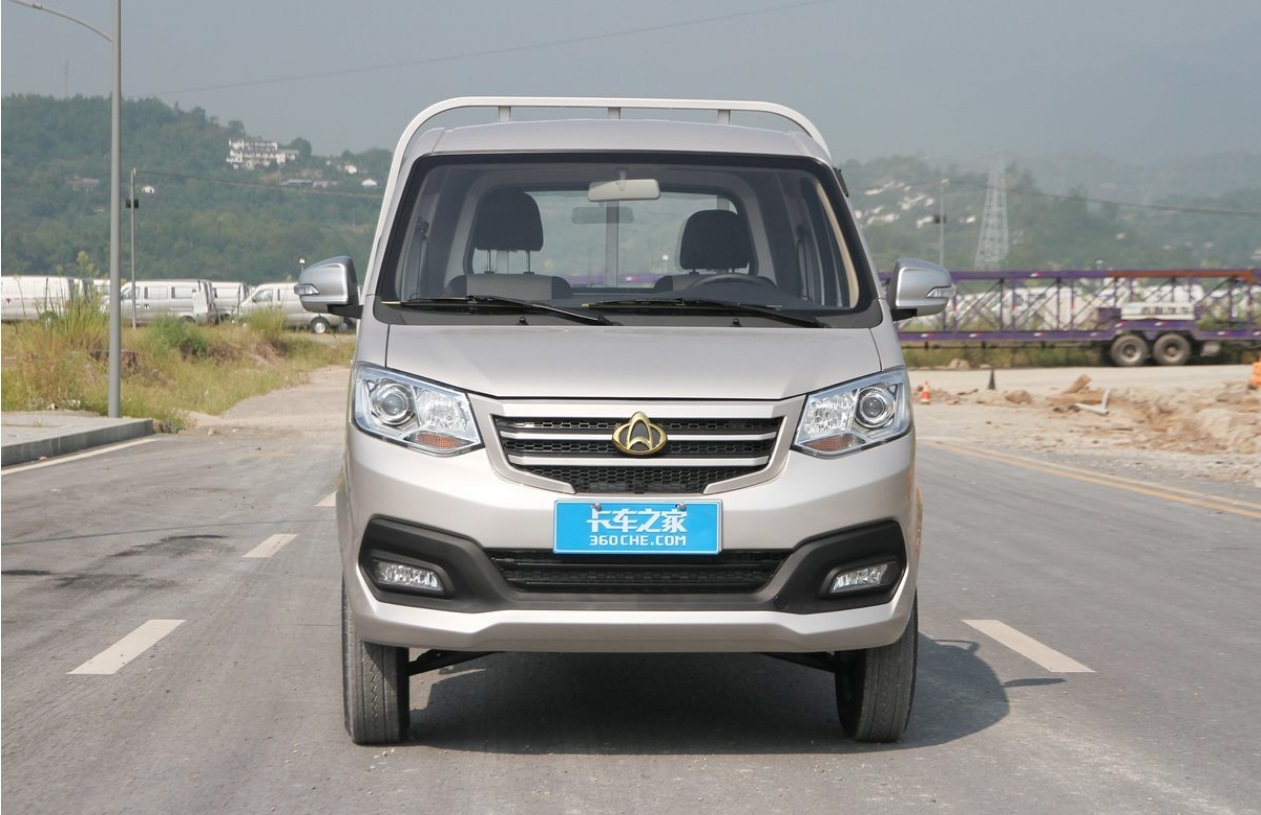truck: (293, 86, 958, 756)
